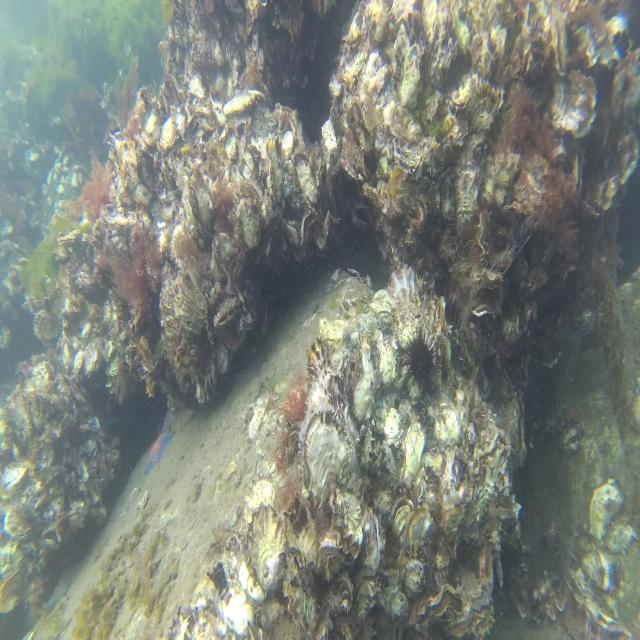echinus: (400, 329, 442, 394)
starfish: (144, 430, 175, 476)
